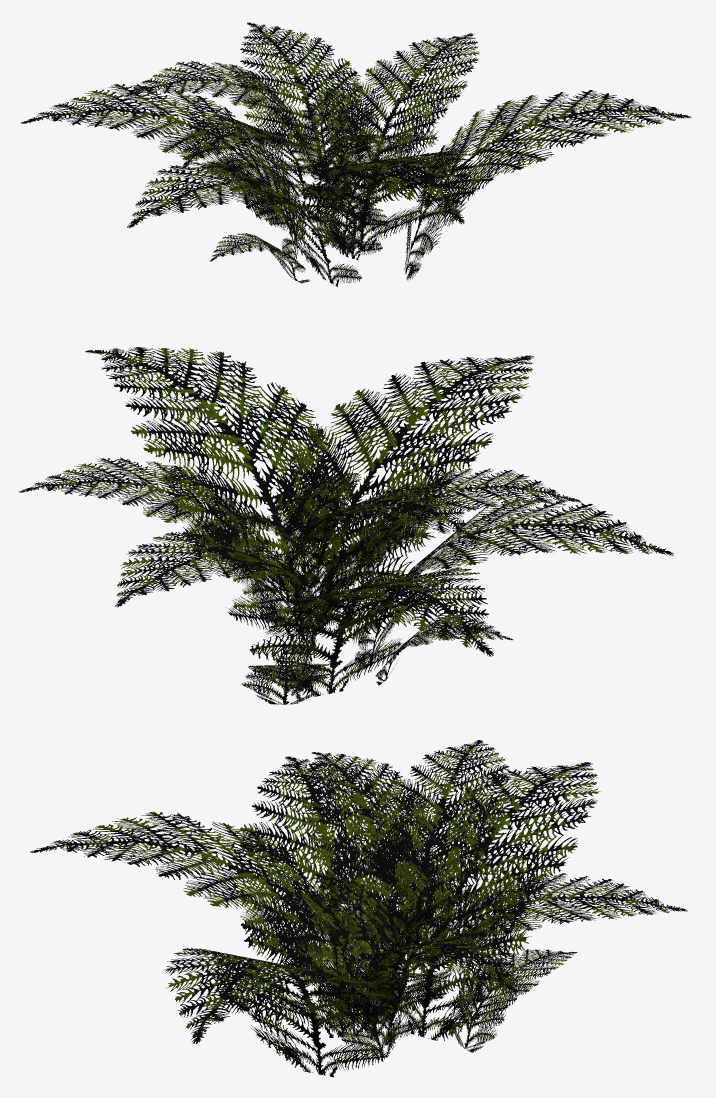
File: Farn_Baked.fbx
3 views of the same model, one above another, from view 1: azimuth 30°, elevation 25°; view 2: azimuth 150°, elevation 25°; view 3: azimuth 270°, elevation 25° (orthographic). The views are drawn at different scales.
Visible parts, largest first — view 1: Fern Plant – Dense Foliage.174; view 2: Fern Plant – Dense Foliage.174; view 3: Fern Plant – Dense Foliage.174.
Boxes of the visible parts, x1=… form: Fern Plant – Dense Foliage.174: x1=21, y1=22, x2=690, y2=286; Fern Plant – Dense Foliage.174: x1=18, y1=347, x2=673, y2=704; Fern Plant – Dense Foliage.174: x1=30, y1=740, x2=687, y2=1077.
Size of the model in its own units: 1.42 by 0.4601 by 1.29.
1 material, 1 textured.
